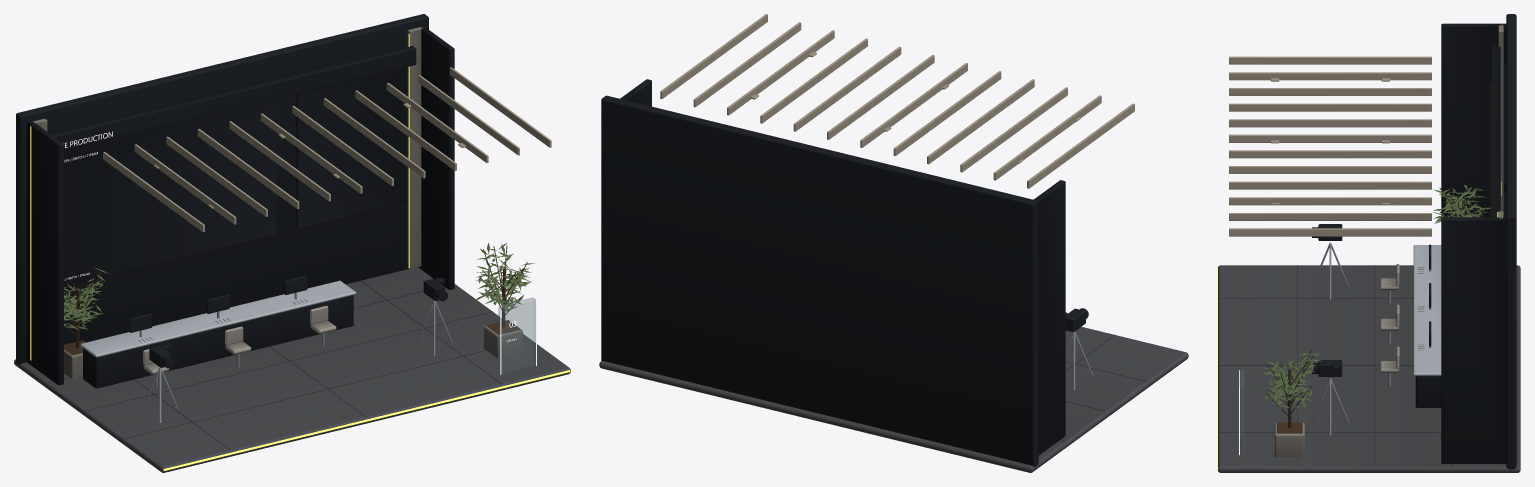
Rendered from live-production.glb.
3 views of the same model, side by side, from view 1: azimuth 30°, elevation 25°; view 2: azimuth 150°, elevation 25°; view 3: azimuth 270°, elevation 25° (orthographic). The views are drawn at different scales.
Parts seen in each view (by area): view 1: Graphite lacquer, Honed grey stone, Screen substrate, Brushed champagne aluminium, Satin aluminium, Silver travertine, Olive leaf, Smoked architectural glass, 3000K integrated light, Smoked oak, Warm grey upholstery; view 2: Graphite lacquer, Brushed champagne aluminium, Honed grey stone; view 3: Honed grey stone, Graphite lacquer, Brushed champagne aluminium, Satin aluminium, Olive leaf, Silver travertine, Smoked oak, Warm grey upholstery, Screen substrate, Smoked architectural glass.
Part boxes in pixels (left/top/right/bottom): Graphite lacquer: left=16, top=14, right=530, bottom=450; Honed grey stone: left=14, top=267, right=570, bottom=472; Screen substrate: left=64, top=67, right=407, bottom=332; Brushed champagne aluminium: left=103, top=67, right=551, bottom=232; Satin aluminium: left=80, top=280, right=452, bottom=422; Silver travertine: left=32, top=26, right=522, bottom=378; Olive leaf: left=64, top=242, right=535, bottom=330; Smoked architectural glass: left=498, top=298, right=535, bottom=373; 3000K integrated light: left=30, top=34, right=570, bottom=470; Smoked oak: left=64, top=245, right=527, bottom=355; Warm grey upholstery: left=143, top=305, right=336, bottom=374; Graphite lacquer: left=601, top=79, right=1146, bottom=467; Brushed champagne aluminium: left=660, top=14, right=1134, bottom=188; Honed grey stone: left=599, top=326, right=1188, bottom=472; Honed grey stone: left=1218, top=265, right=1520, bottom=472; Graphite lacquer: left=1220, top=14, right=1516, bottom=469; Brushed champagne aluminium: left=1229, top=56, right=1431, bottom=236; Satin aluminium: left=1311, top=242, right=1441, bottom=435; Olive leaf: left=1259, top=185, right=1490, bottom=409; Silver travertine: left=1274, top=24, right=1503, bottom=457; Smoked oak: left=1265, top=83, right=1491, bottom=433; Warm grey upholstery: left=1379, top=264, right=1399, bottom=372; Screen substrate: left=1429, top=64, right=1506, bottom=346; Smoked architectural glass: left=1240, top=369, right=1244, bottom=454.
Bounding box in the file's own units: 13 × 7.7 × 8.21.
